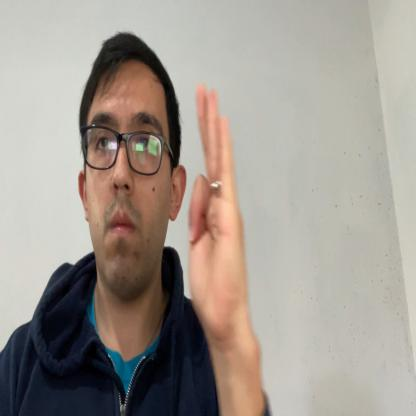F: (188, 84, 248, 338)
